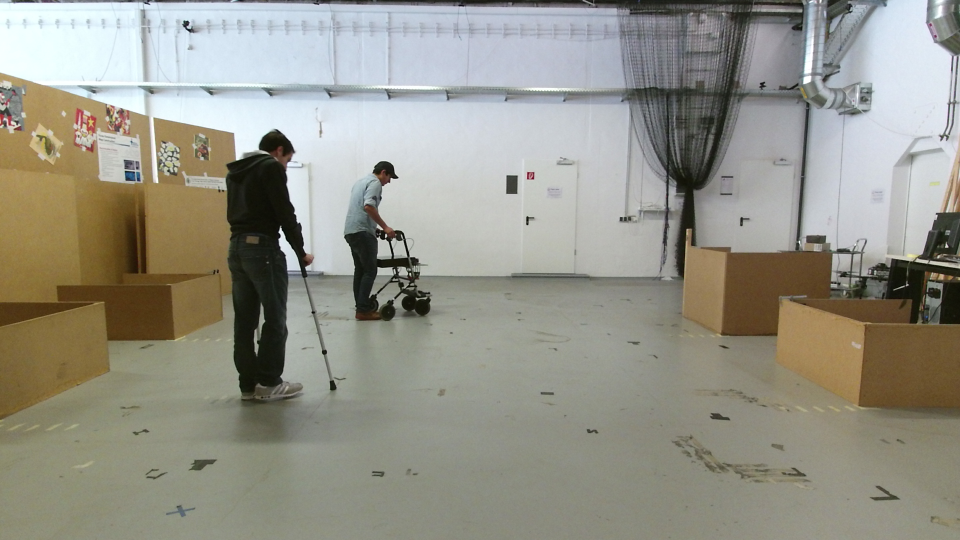crutches: (221, 124, 341, 404)
